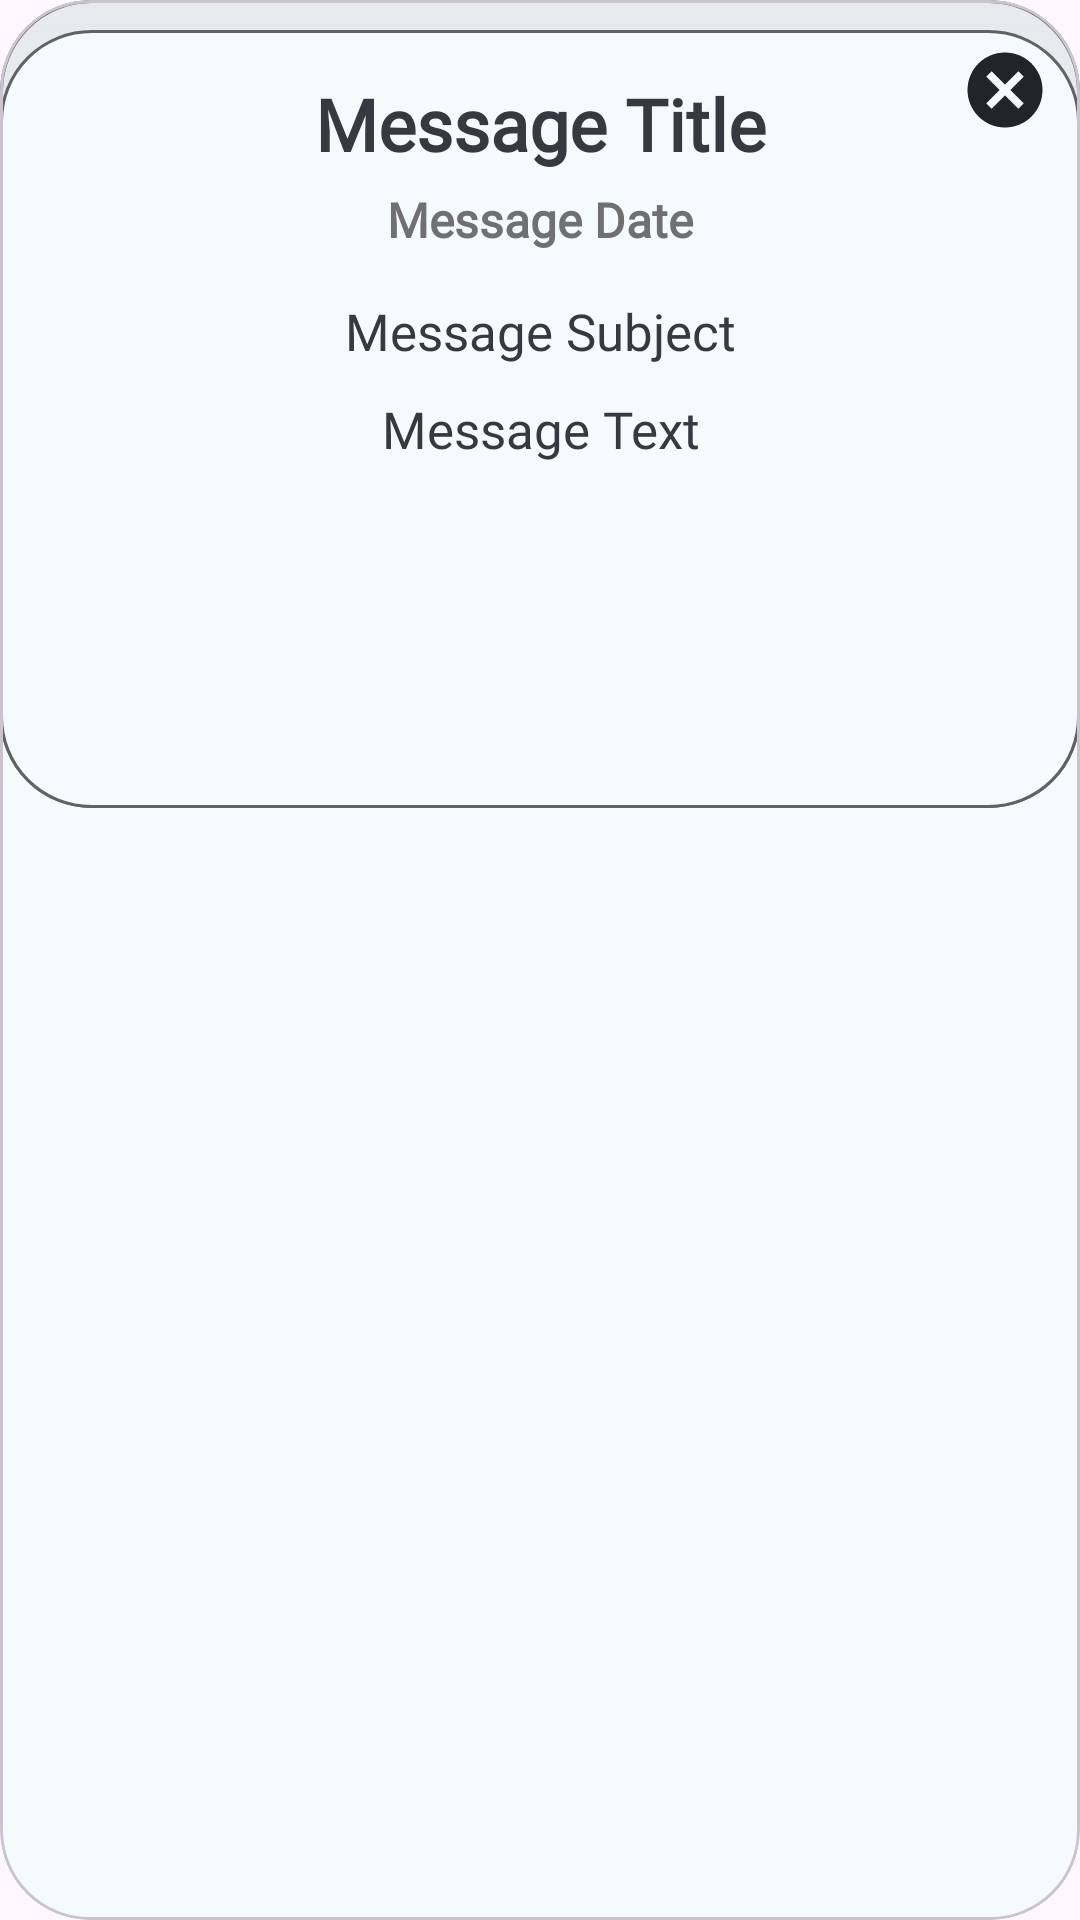

Screen size 1080px x 1920px. Icon name, then its box in pixels as (x1, y1, x2, y2):
close: (967, 52, 1043, 128)
